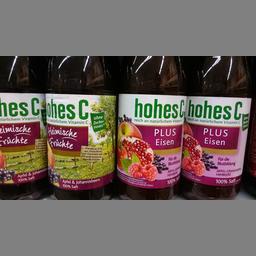juice: (44, 55, 116, 198), (180, 56, 250, 195), (116, 54, 180, 196), (0, 56, 47, 195)
